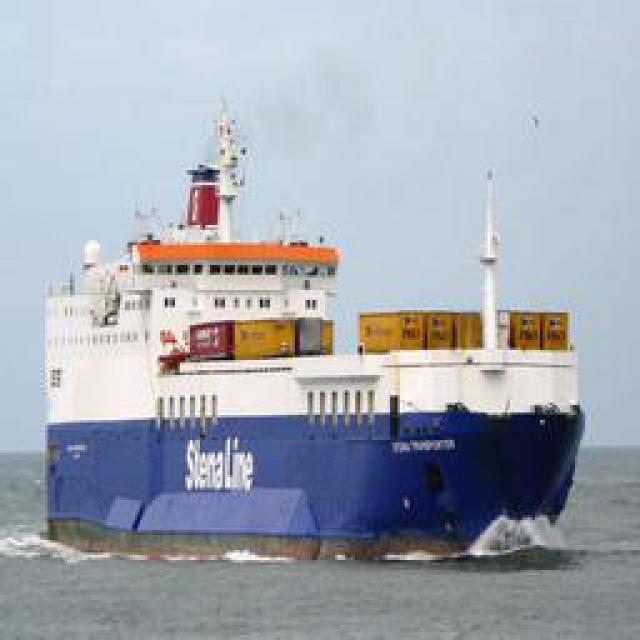Ship: (35, 67, 585, 557)
